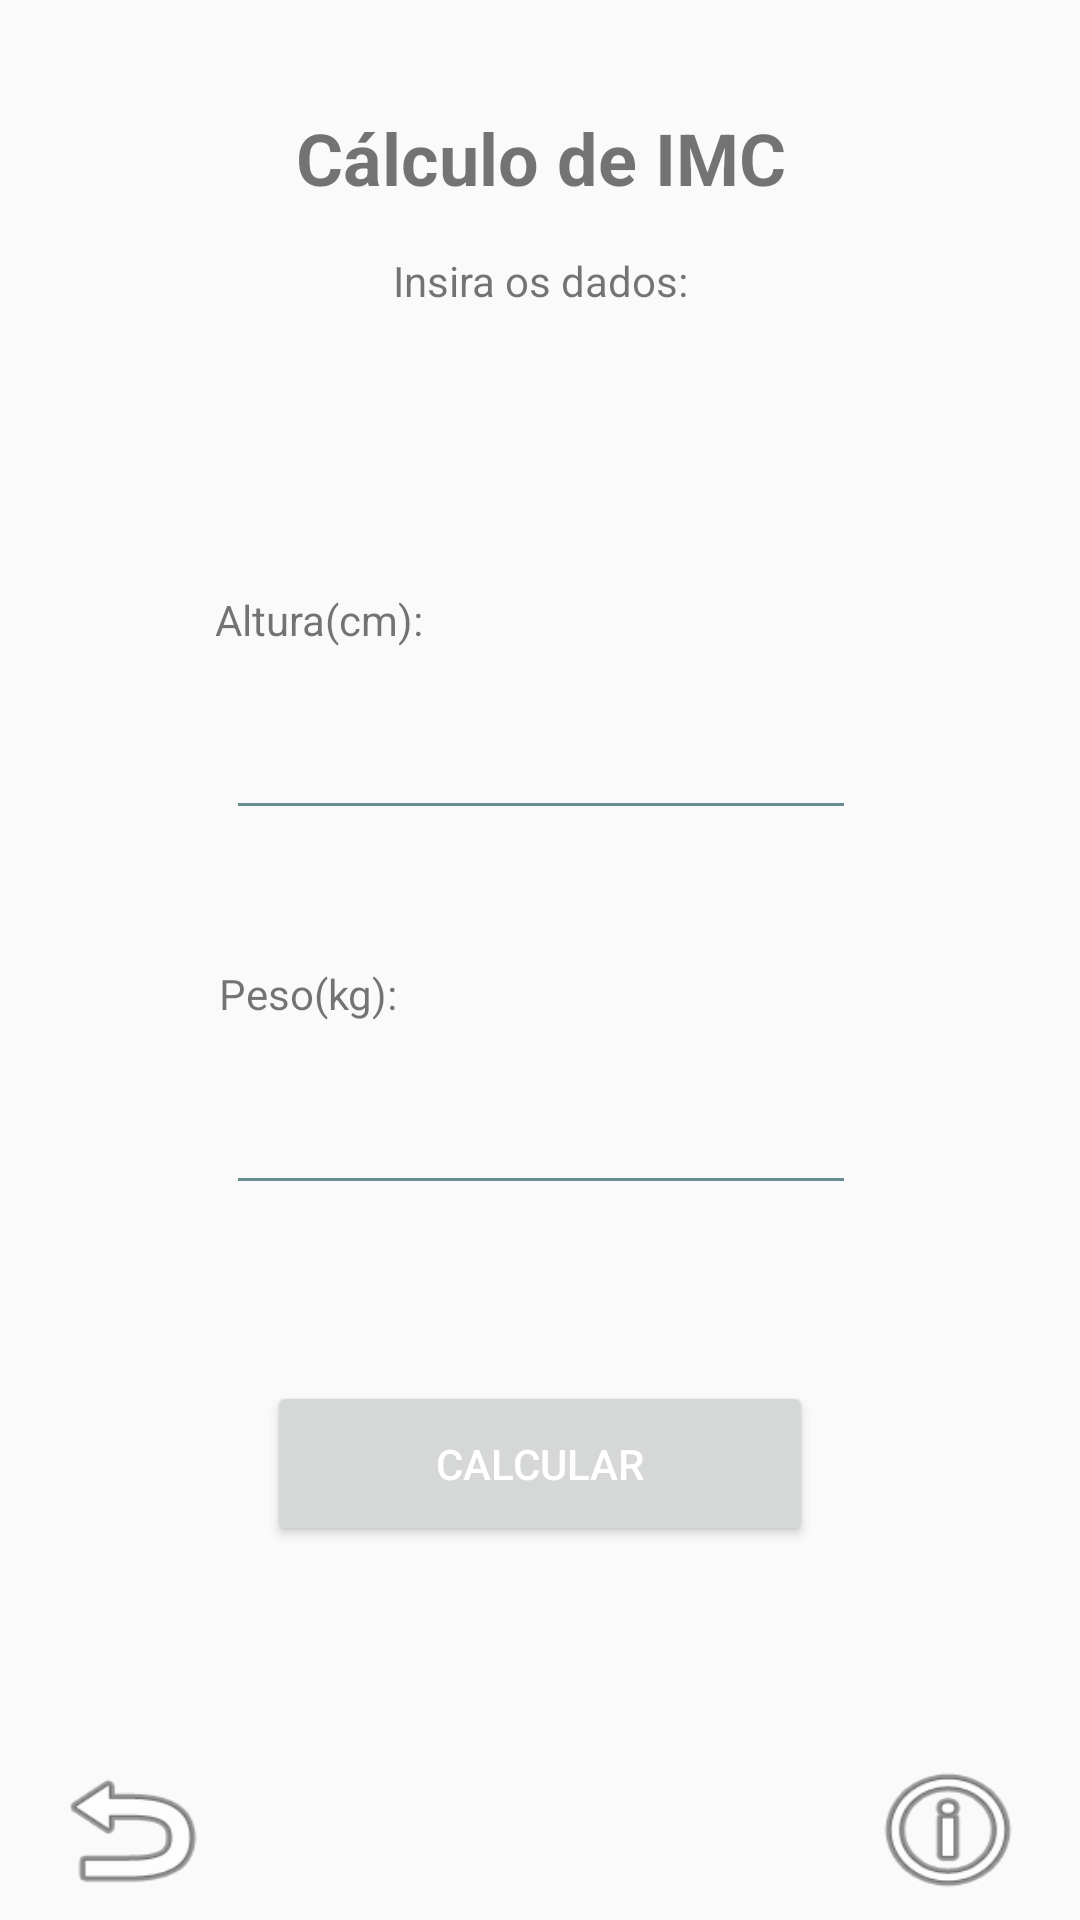

Screen size 1080x1920. Icon name, then its center in pixels as (x=x, y=y):
info details: (x=948, y=1830)
revert: (x=133, y=1831)
